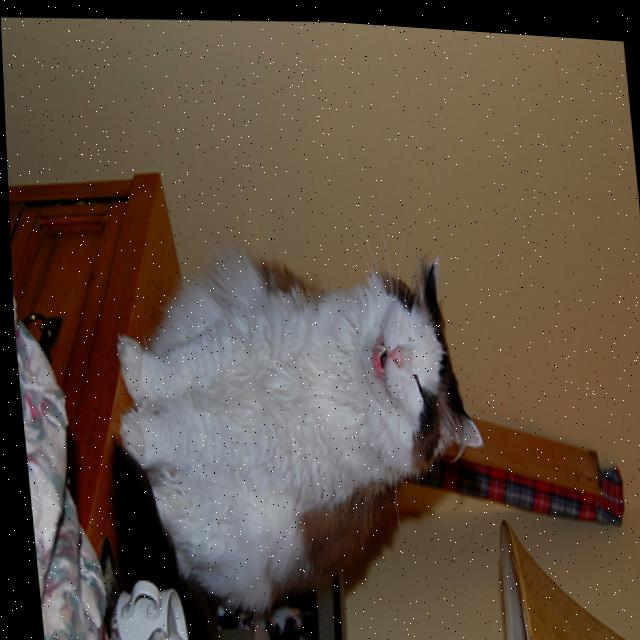Ragdoll: (92, 217, 502, 640)
